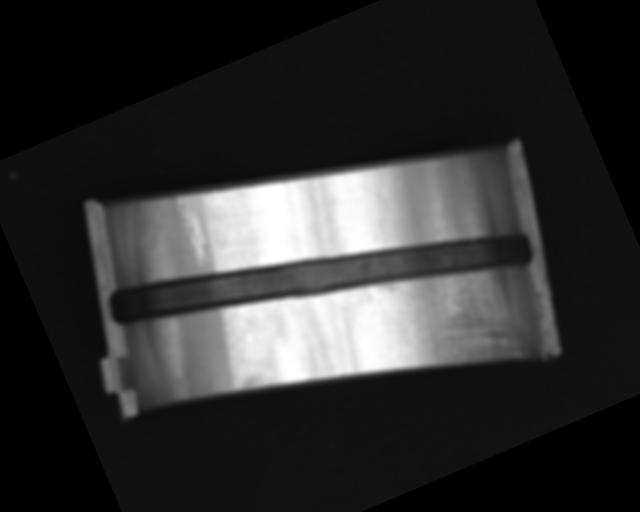gap: (103, 135, 536, 421)
nick: (167, 188, 217, 268)
scratch: (377, 238, 538, 400)
